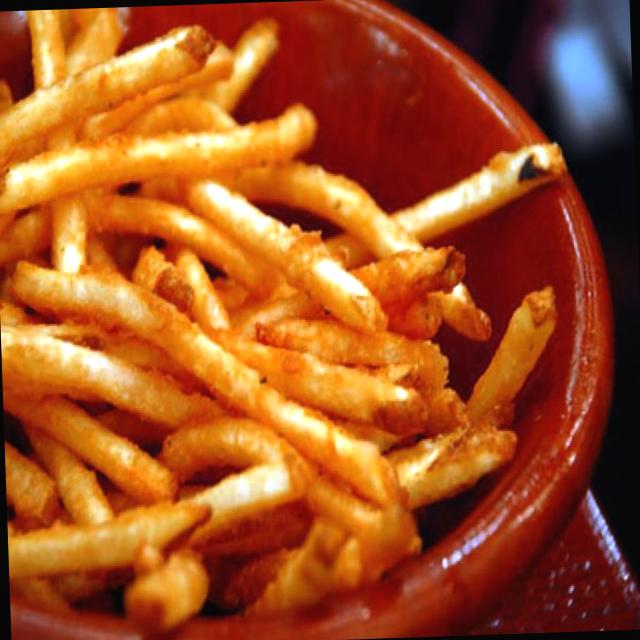French Fries: (0, 0, 511, 590)
